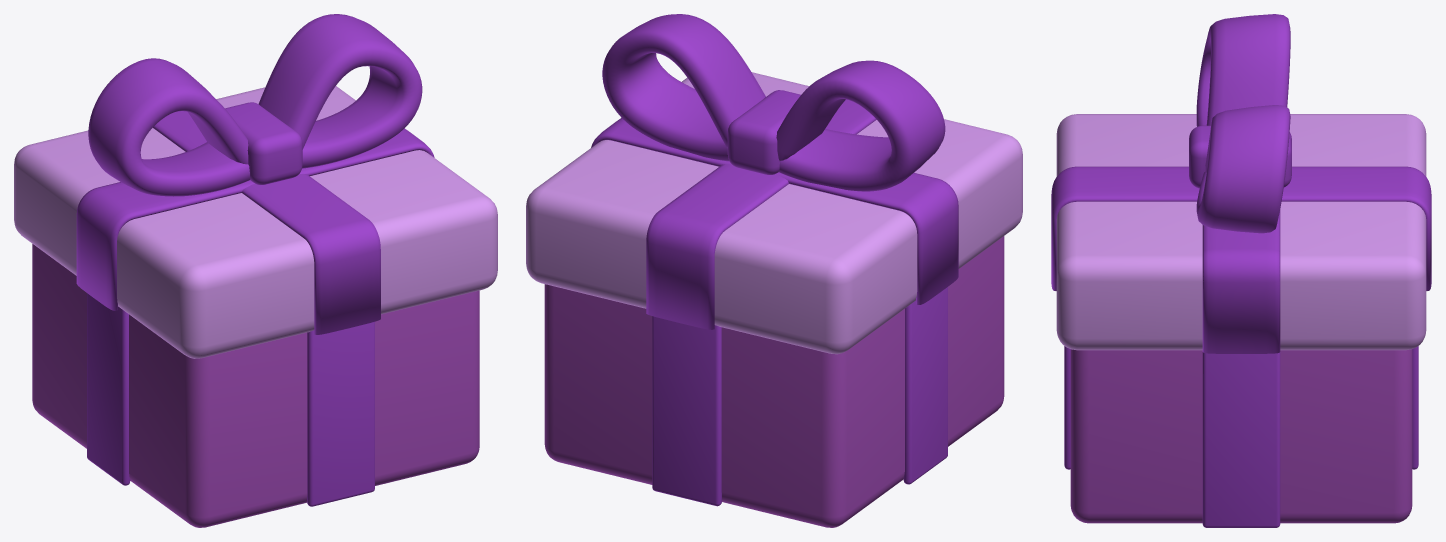
Rendered from gift_box_purple.glb.
3 views of the same model, side by side, from view 1: azimuth 30°, elevation 25°; view 2: azimuth 150°, elevation 25°; view 3: azimuth 270°, elevation 25° (orthographic). The views are drawn at different scales.
Visible parts, largest first — view 1: Box_Body, Box_Lid, Bow_Loop_Right, Bow_Loop_Left, Ribbon_Lid_Front_Back, Ribbon_Body_Front_Back_A, Ribbon_Lid_Left_Right, Ribbon_Body_Left_Right_A, Bow_Center_Knot; view 2: Box_Body, Box_Lid, Bow_Loop_Right, Bow_Loop_Left, Ribbon_Lid_Front_Back, Ribbon_Body_Front_Back_B, Ribbon_Lid_Left_Right, Ribbon_Body_Left_Right_A, Bow_Center_Knot; view 3: Box_Lid, Box_Body, Ribbon_Body_Left_Right_B, Ribbon_Lid_Front_Back, Bow_Loop_Right, Ribbon_Lid_Left_Right, Bow_Loop_Left, Bow_Center_Knot, Ribbon_Body_Front_Back_A, Ribbon_Body_Front_Back_B.
Boxes of the visible parts, x1,y1,x2,y2 form: Box_Body: (32,244,479,527); Box_Lid: (14,86,497,358); Bow_Loop_Right: (258,14,422,168); Bow_Loop_Left: (88,58,250,196); Ribbon_Lid_Front_Back: (153,111,380,334); Ribbon_Body_Front_Back_A: (307,321,374,506); Ribbon_Lid_Left_Right: (76,128,434,310); Ribbon_Body_Left_Right_A: (87,293,130,485); Bow_Center_Knot: (225,102,302,184); Box_Body: (544,236,1004,527); Box_Lid: (526,72,1022,354); Bow_Loop_Right: (602,14,765,161); Bow_Loop_Left: (776,60,945,191); Ribbon_Lid_Front_Back: (646,99,876,329); Ribbon_Body_Front_Back_B: (652,316,721,506); Ribbon_Lid_Left_Right: (591,118,958,304); Ribbon_Body_Left_Right_A: (903,287,947,484); Bow_Center_Knot: (727,90,800,174); Box_Lid: (1056,114,1426,350); Box_Body: (1070,349,1412,523); Ribbon_Body_Left_Right_B: (1202,352,1280,527); Ribbon_Lid_Front_Back: (1051,166,1431,290); Bow_Loop_Right: (1196,105,1290,233); Ribbon_Lid_Left_Right: (1202,210,1280,353); Bow_Loop_Left: (1196,14,1290,126); Bow_Center_Knot: (1189,125,1291,188); Ribbon_Body_Front_Back_A: (1064,346,1070,469); Ribbon_Body_Front_Back_B: (1412,346,1418,469).
Bounding box in the file's own units: 2.18 × 2.48 × 2.18.
